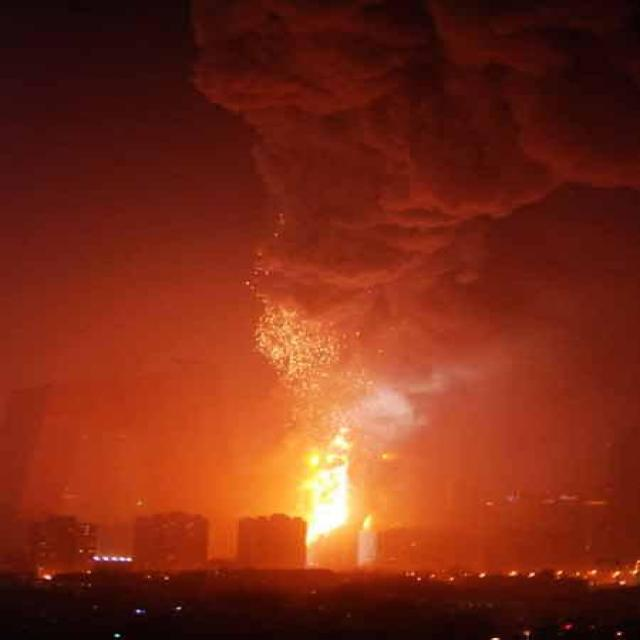fire: (294, 420, 369, 534)
smoke: (157, 6, 631, 408)
